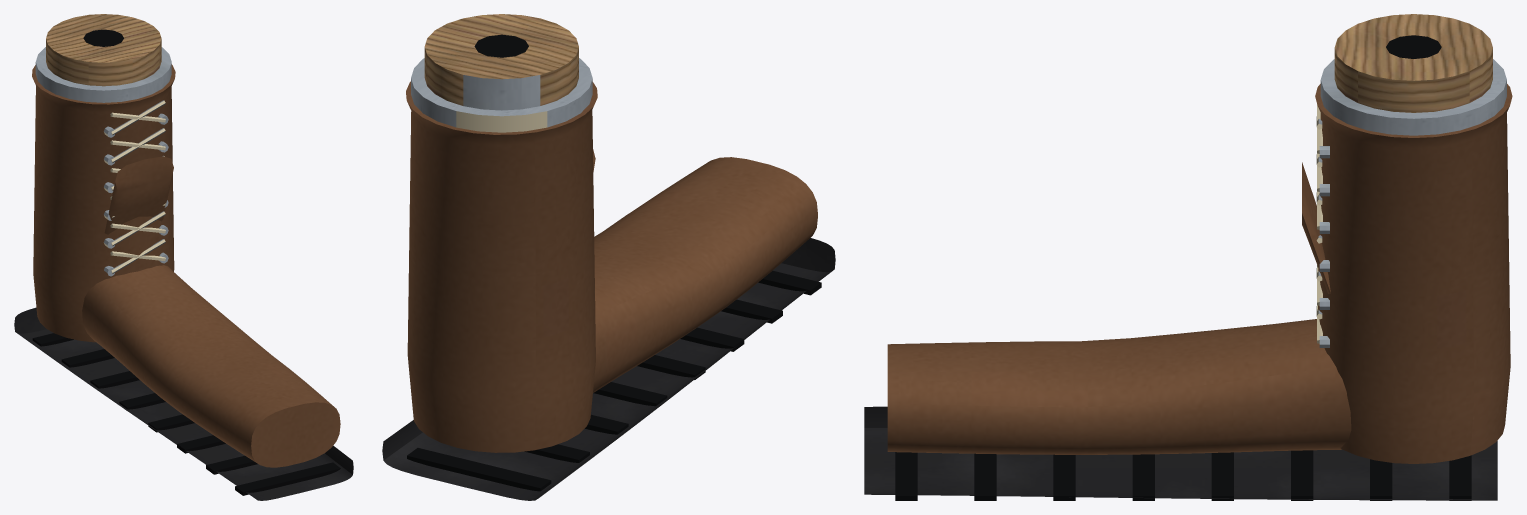
The model's file is mannequin_boot.glb.
3 views of the same model, side by side, from view 1: azimuth 30°, elevation 25°; view 2: azimuth 150°, elevation 25°; view 3: azimuth 270°, elevation 25° (orthographic). The views are drawn at different scales.
Parts seen in each view (by area): view 1: MannequinBootBody; view 2: MannequinBootBody; view 3: MannequinBootBody.
Part boxes in pixels (x1,y1,x2,y2): MannequinBootBody: (14, 14, 353, 500); MannequinBootBody: (382, 14, 835, 500); MannequinBootBody: (864, 14, 1512, 500).
Bounding box in the file's own units: 0.212 × 0.4985 × 0.696.
Materials: 6 (4 with a texture image).
